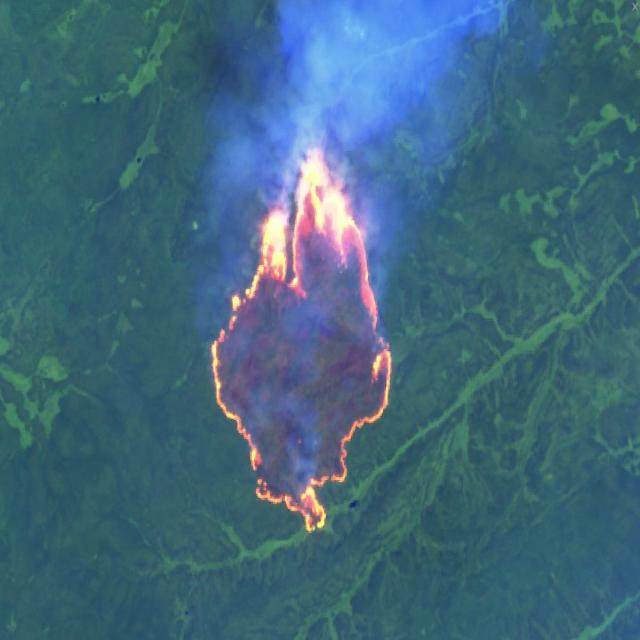fire: (205, 138, 398, 544)
